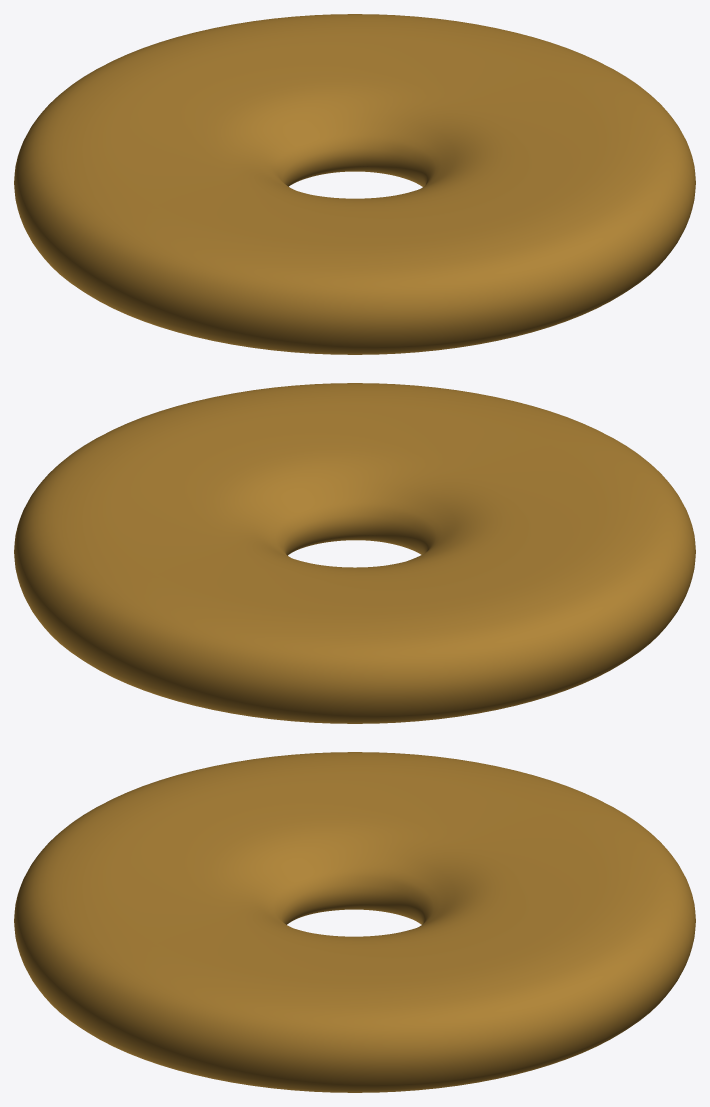
The model's file is Cheerio_baked_2.fbx.
3 views of the same model, one above another, from view 1: azimuth 30°, elevation 25°; view 2: azimuth 150°, elevation 25°; view 3: azimuth 270°, elevation 25° (orthographic).
Visible parts, largest first — view 1: Arena_Cheerio; view 2: Arena_Cheerio; view 3: Arena_Cheerio.
Part boxes in pixels (x1,y1,x2,y2): Arena_Cheerio: [14, 14, 695, 354]; Arena_Cheerio: [14, 383, 695, 723]; Arena_Cheerio: [14, 752, 695, 1092].
Size of the model in its own units: 8612 by 1238 by 8612.
